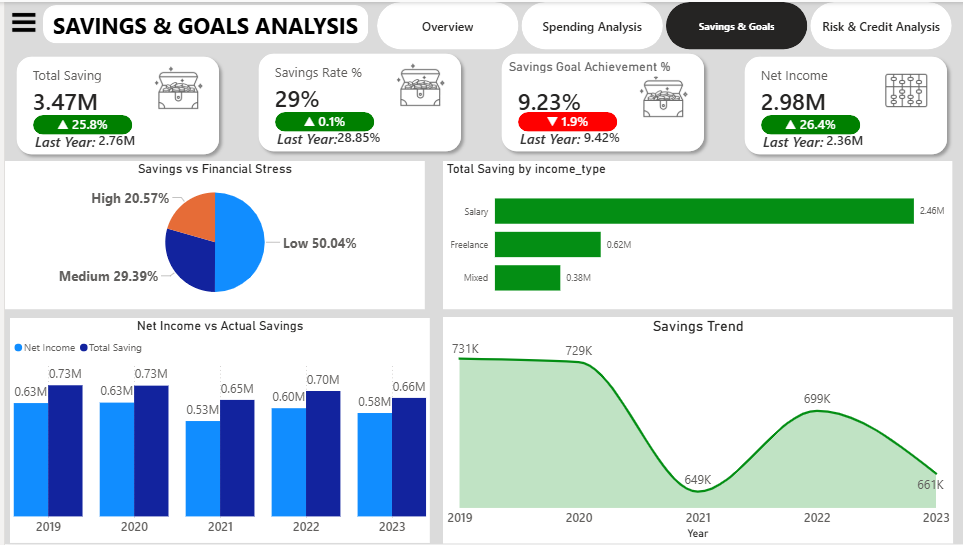

This screenshot's page, from the dashboard's own definition file:
{"tool":"powerbi","page":{"name":"Savings & Goals","canvas":[1280,720],"ordinal":2},"visuals":[{"type":"group","id":"g1","title":"MAIN PAGE","box":[0,0,1261.4,720],"z":0},{"type":"shape","box":[328.8,60,286.8,147.4],"z":0,"group":"g11"},{"type":"shape","box":[651.4,60,286.8,147.4],"z":0,"group":"g12"},{"type":"shape","box":[6.2,64.1,286.8,147.4],"z":0,"group":"g10"},{"type":"shape","box":[974,64.1,286.8,147.4],"z":0,"group":"g13"},{"type":"shape","title":"YOY BG","box":[359,146.1,132.1,26.3],"z":0,"group":"g6"},{"type":"shape","title":"YOY BG","box":[681.6,146.1,132.1,26.3],"z":0,"group":"g7"},{"type":"shape","title":"YOY BG","box":[36.4,150.2,132.1,26.3],"z":0,"group":"g8"},{"type":"shape","title":"YOY BG","box":[1004.2,150.2,132.1,26.3],"z":0,"group":"g9"},{"type":"shape","title":"Last Year:","box":[362.4,168.6,89.3,20],"z":0,"group":"g2"},{"type":"shape","title":"Last Year:","box":[685,168.6,89.3,20],"z":0,"group":"g3"},{"type":"shape","title":"Last Year:","box":[39.8,172.7,89.3,20],"z":0,"group":"g4"},{"type":"shape","title":"Last Year:","box":[1007.6,172.7,89.3,20],"z":0,"group":"g5"},{"type":"cardVisual","fields":{"Data":["Meaasure.Savings Rate %"]},"box":[342.6,65.5,261.1,98.6],"z":1000,"group":"g11"},{"type":"cardVisual","title":"Savings Goal Achievement %","fields":{"Data":["Meaasure.Savings Goal Met %"]},"box":[665.2,65.5,261.1,98.6],"z":1000,"group":"g12"},{"type":"cardVisual","fields":{"Data":["Meaasure.Total Saving"]},"box":[20,69.6,261.1,98.6],"z":1000,"group":"g10"},{"type":"cardVisual","fields":{"Data":["Meaasure.Net Income"]},"box":[987.8,69.6,261.1,98.6],"z":1000,"group":"g13"},{"type":"cardVisual","title":"YOY %","fields":{"Data":["Meaasure.YOY saving Rate %"]},"box":[380.3,138.1,89.5,34.3],"z":1000,"group":"g6"},{"type":"cardVisual","title":"YOY %","fields":{"Data":["Meaasure.YOY saving Goal met %"]},"box":[702.9,138.1,89.5,34.3],"z":1000,"group":"g7"},{"type":"cardVisual","title":"YOY %","fields":{"Data":["Meaasure.YOY saving %"]},"box":[57.7,142.2,89.5,34.3],"z":1000,"group":"g8"},{"type":"cardVisual","title":"YOY %","fields":{"Data":["Meaasure.YOY net income %"]},"box":[1025.5,142.2,89.5,34.3],"z":1000,"group":"g9"},{"type":"cardVisual","title":"LY ","fields":{"Data":["Meaasure.Last year Saving rate"]},"box":[430.3,158.6,82.2,37.2],"z":1000,"group":"g2"},{"type":"cardVisual","title":"LY ","fields":{"Data":["Meaasure.Last year Saving goal met"]},"box":[752.9,158.6,82.2,37.2],"z":1000,"group":"g3"},{"type":"cardVisual","title":"LY ","fields":{"Data":["Meaasure.Last year Saving"]},"box":[107.7,162.7,82.2,37.2],"z":1000,"group":"g4"},{"type":"cardVisual","title":"LY ","fields":{"Data":["Meaasure.Last year net Income"]},"box":[1075.5,162.7,82.2,37.2],"z":1000,"group":"g5"},{"type":"group","id":"g2","title":"Group 1","box":[362.4,158.6,150,37.2],"z":2000,"group":"g11"},{"type":"group","id":"g3","title":"Group 1","box":[685,158.6,150,37.2],"z":2000,"group":"g12"},{"type":"group","id":"g4","title":"Group 1","box":[39.8,162.7,150,37.2],"z":2000,"group":"g10"},{"type":"group","id":"g5","title":"Group 1","box":[1007.6,162.7,150,37.2],"z":2000,"group":"g13"},{"type":"clusteredColumnChart","title":"Net Income vs Actual Savings","fields":{"Y":["Meaasure.Net Income","Meaasure.Total Saving"],"Category":["Calendar.Year"]},"box":[7.1,419.5,558.4,299.1],"z":2000,"group":"g1"},{"type":"group","id":"g6","title":"Group 2","box":[359,138.1,132.1,34.3],"z":3000,"group":"g11"},{"type":"group","id":"g7","title":"Group 2","box":[681.6,138.1,132.1,34.3],"z":3000,"group":"g12"},{"type":"group","id":"g8","title":"Group 2","box":[36.4,142.2,132.1,34.3],"z":3000,"group":"g10"},{"type":"group","id":"g9","title":"Group 2","box":[1004.2,142.2,132.1,34.3],"z":3000,"group":"g13"},{"type":"barChart","fields":{"Category":["PERSONAL FINANCE TRACKER - Shee.income_type"],"Y":["Meaasure.Total Saving"]},"box":[582.4,211.2,676.8,196.8],"z":3000,"group":"g1"},{"type":"lineChart","title":"Savings Trend","fields":{"Category":["Calendar.Year"],"Y":["Meaasure.Total Saving"]},"box":[582.4,419.2,678.4,300.8],"z":5000,"group":"g1"},{"type":"pieChart","title":"Savings vs Financial Stress","fields":{"Category":["PERSONAL FINANCE TRACKER - Shee.financial_stress_level"],"Y":["Meaasure.Total Saving"]},"box":[0,211.2,558.4,196.8],"z":6000,"group":"g1"},{"type":"pageNavigator","box":[493.9,0,767.5,63.4],"z":7000,"group":"g1"},{"type":"group","id":"g10","title":"total saving","box":[6.2,64.1,286,147],"z":8000,"group":"g1"},{"type":"group","id":"g11","title":"saving rate","box":[328.8,60,286,147],"z":9000,"group":"g1"},{"type":"group","id":"g12","title":"saving goal met","box":[651.4,60,286,147],"z":10000,"group":"g1"},{"type":"group","id":"g13","title":"Netincome","box":[974,64.1,286,147],"z":11000,"group":"g1"},{"type":"shape","box":[51,4.3,432.3,51],"z":12000,"group":"g1"},{"type":"image","title":"MENU","box":[0,0,49.6,53.9],"z":13000,"group":"g1"}]}

Visuals, with their boxes in screenshot pixels (x1, y1, x2, y2), scaled from the page's 1280x720 canvas onto the 963x545 screenshot:
"MAIN PAGE" group: locate(0, 0, 949, 544)
shape: locate(247, 45, 463, 157)
shape: locate(490, 45, 706, 157)
shape: locate(5, 49, 220, 160)
shape: locate(733, 49, 949, 160)
"YOY BG" shape: locate(270, 111, 369, 130)
"YOY BG" shape: locate(513, 111, 612, 130)
"YOY BG" shape: locate(27, 114, 127, 134)
"YOY BG" shape: locate(756, 114, 855, 134)
"Last Year:" shape: locate(273, 128, 340, 143)
"Last Year:" shape: locate(515, 128, 583, 143)
"Last Year:" shape: locate(30, 131, 97, 146)
"Last Year:" shape: locate(758, 131, 825, 146)
cardVisual - Meaasure.Savings Rate %: locate(258, 50, 454, 124)
"Savings Goal Achievement %" cardVisual: locate(500, 50, 697, 124)
cardVisual - Meaasure.Total Saving: locate(15, 53, 211, 127)
cardVisual - Meaasure.Net Income: locate(743, 53, 940, 127)
"YOY %" cardVisual: locate(286, 105, 353, 130)
"YOY %" cardVisual: locate(529, 105, 596, 130)
"YOY %" cardVisual: locate(43, 108, 111, 134)
"YOY %" cardVisual: locate(772, 108, 839, 134)
"LY " cardVisual: locate(324, 120, 386, 148)
"LY " cardVisual: locate(566, 120, 628, 148)
"LY " cardVisual: locate(81, 123, 143, 151)
"LY " cardVisual: locate(809, 123, 871, 151)
"Group 1" group: locate(273, 120, 386, 148)
"Group 1" group: locate(515, 120, 628, 148)
"Group 1" group: locate(30, 123, 143, 151)
"Group 1" group: locate(758, 123, 871, 151)
"Net Income vs Actual Savings" clusteredColumnChart: locate(5, 318, 425, 544)
"Group 2" group: locate(270, 105, 369, 130)
"Group 2" group: locate(513, 105, 612, 130)
"Group 2" group: locate(27, 108, 127, 134)
"Group 2" group: locate(756, 108, 855, 134)
barChart - PERSONAL FINANCE TRACKER - Shee.income_type x Meaasure.Total Saving: locate(438, 160, 947, 309)
"Savings Trend" lineChart: locate(438, 317, 949, 544)
"Savings vs Financial Stress" pieChart: locate(0, 160, 420, 309)
pageNavigator: locate(372, 0, 949, 48)
"total saving" group: locate(5, 49, 220, 160)
"saving rate" group: locate(247, 45, 463, 157)
"saving goal met" group: locate(490, 45, 705, 157)
"Netincome" group: locate(733, 49, 948, 160)
shape: locate(38, 3, 364, 42)
"MENU" image: locate(0, 0, 37, 41)
